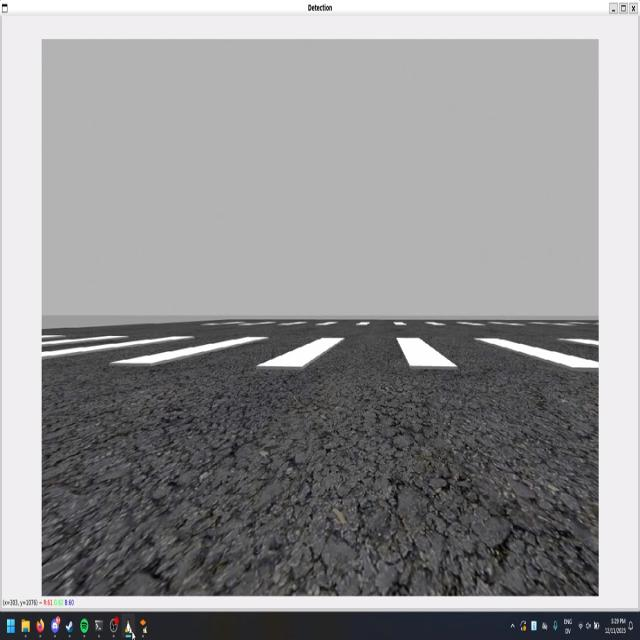crosswalk: (41, 333, 598, 374)
